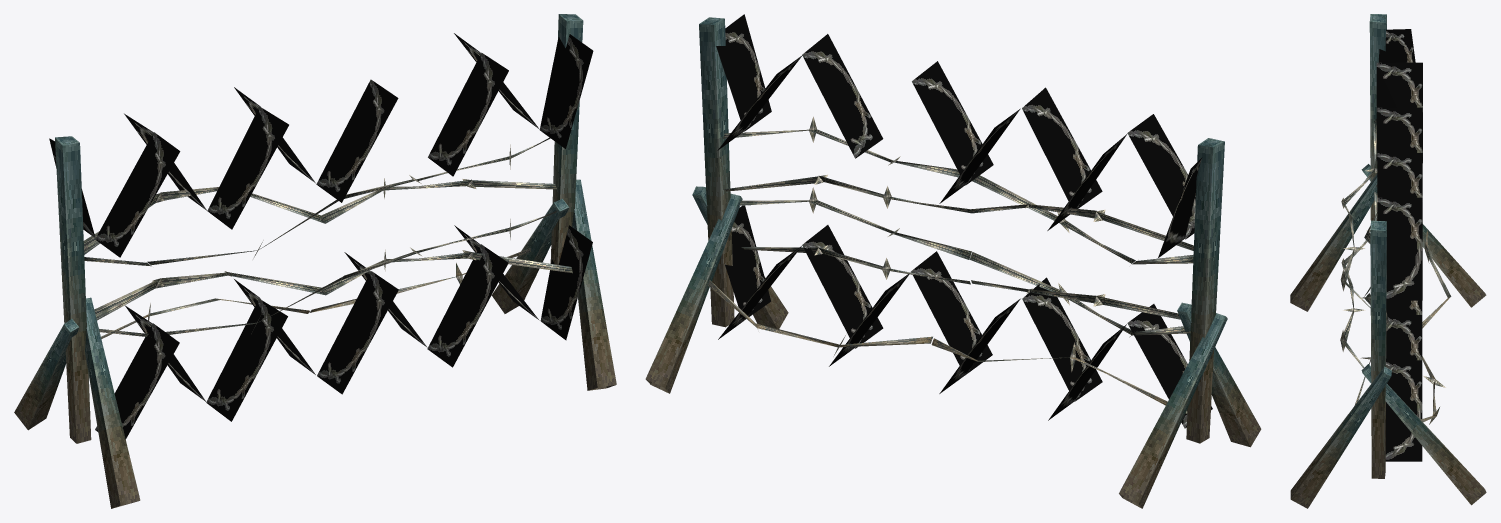
Rendered from C4SMPOWWIRE1.obj.
3 renders of one model, left to right at view 1: azimuth 30°, elevation 25°; view 2: azimuth 150°, elevation 25°; view 3: azimuth 270°, elevation 25°, orthographic. The views are drawn at different scales.
Visible parts, largest first — view 1: Node 4, Node 5, Node 6, Node 2, Node 3, Node 7; view 2: Node 4, Node 2, Node 5, Node 6, Node 3, Node 7; view 3: Node 2, Node 4, Node 7, Node 6, Node 5, Node 3.
Part boxes in pixels (x1,y1,x2,y2): Node 4: (49, 113, 325, 508); Node 5: (14, 276, 343, 439); Node 6: (309, 179, 572, 394); Node 2: (415, 14, 593, 264); Node 3: (147, 79, 471, 265); Node 7: (491, 179, 616, 390); Node 4: (971, 114, 1261, 447); Node 2: (699, 14, 894, 327); Node 5: (931, 252, 1227, 508); Node 6: (708, 174, 992, 375); Node 3: (819, 61, 1135, 263); Node 7: (645, 186, 788, 393); Node 2: (1340, 153, 1422, 478); Node 4: (1290, 14, 1422, 311); Node 7: (1290, 364, 1486, 508); Node 6: (1340, 282, 1445, 461); Node 5: (1341, 164, 1486, 328); Node 3: (1341, 107, 1422, 250).
Size of the model in its own units: 7.43 by 4.59 by 2.84.
Materials: 13 (13 with a texture image).
